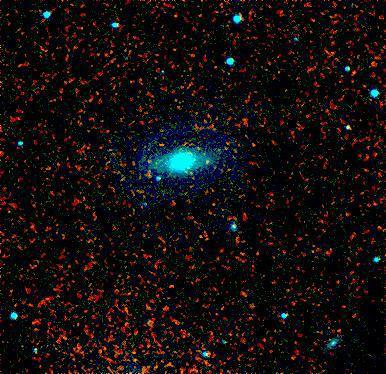star: (193, 147, 223, 177)
